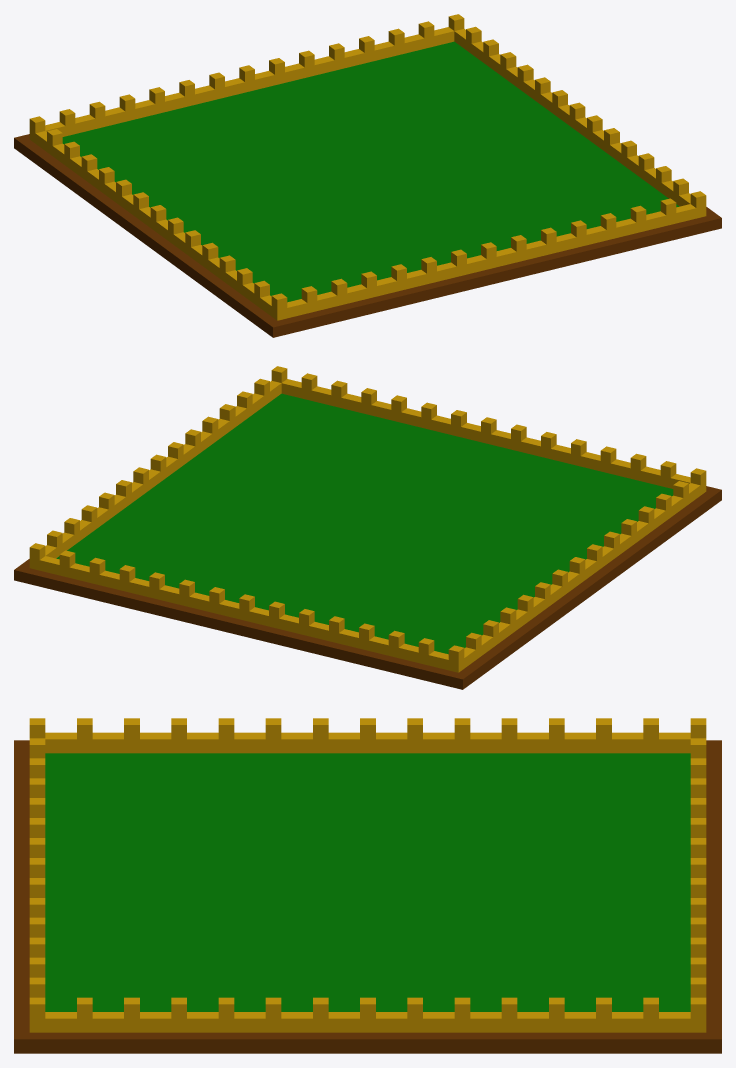
Rendered from CowPenDae.dae.
The picture shows the model from 3 angles, top to bottom: view 1: azimuth 30°, elevation 25°; view 2: azimuth 150°, elevation 25°; view 3: azimuth 270°, elevation 25°; orthographic projection. The views are drawn at different scales.
Visible parts, largest first — view 1: PlaneCOL; view 2: PlaneCOL; view 3: PlaneCOL.
Part boxes in pixels (x1,y1,x2,y2): PlaneCOL: (14,14,721,337); PlaneCOL: (14,366,721,689); PlaneCOL: (14,718,721,1053).
Size of the model in its own units: 4.5 by 4.5 by 0.3.
